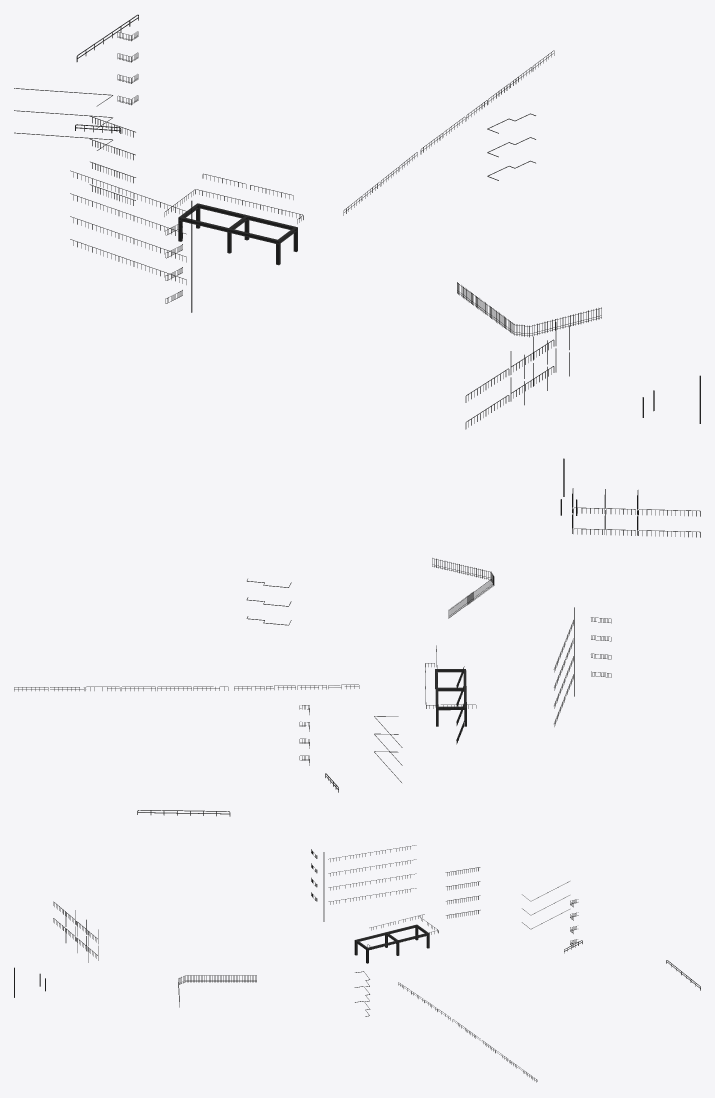
Rendered from Metal.obj.
The picture shows the model from 3 angles, top to bottom: view 1: azimuth 30°, elevation 25°; view 2: azimuth 150°, elevation 25°; view 3: azimuth 270°, elevation 25°; orthographic projection. The views are drawn at different scales.
Parts seen in each view (by area): view 1: Metal; view 2: Metal; view 3: Metal.
Boxes of the visible parts, box(x1,y1,x2,y2) form: Metal: box(14, 14, 700, 429); Metal: box(14, 458, 700, 816); Metal: box(14, 845, 700, 1082).
Bounding box in the file's own units: 83.32 × 15.32 × 136.
Materials: 1 (1 with a texture image).
